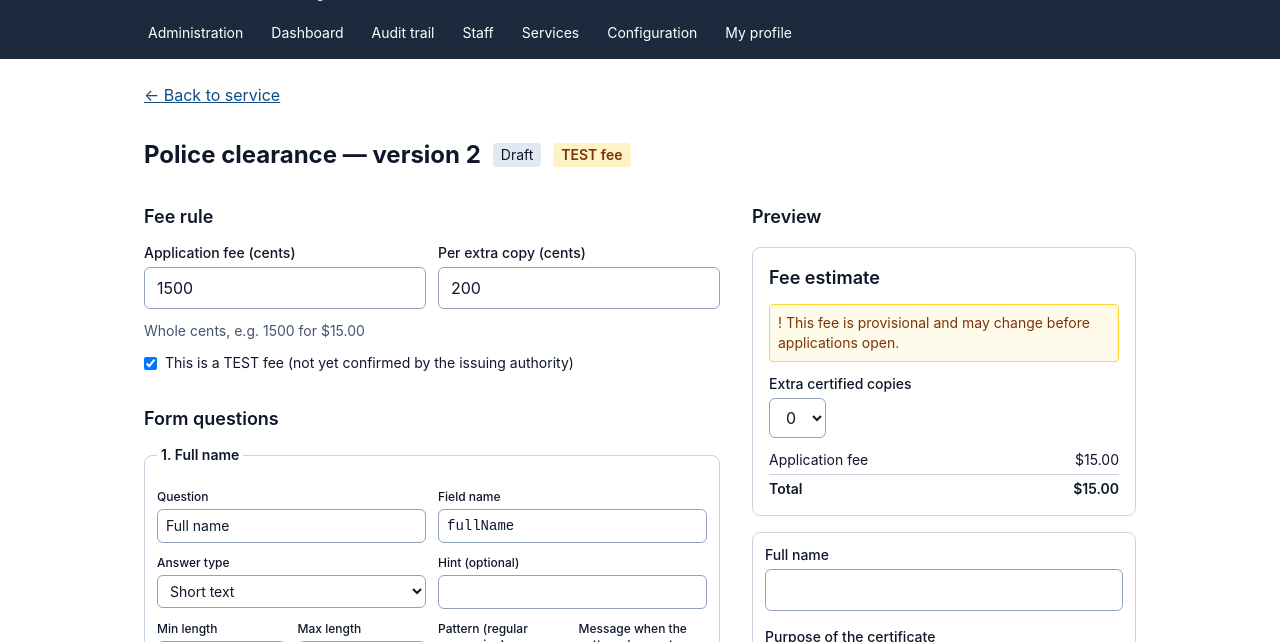
Test: version editor › should block publishing while the definition has problems
Replace the text in the field labelled "Field name" with "Bad Name" at (572,526), box 438,509 -> 707,543
(page scrolled)
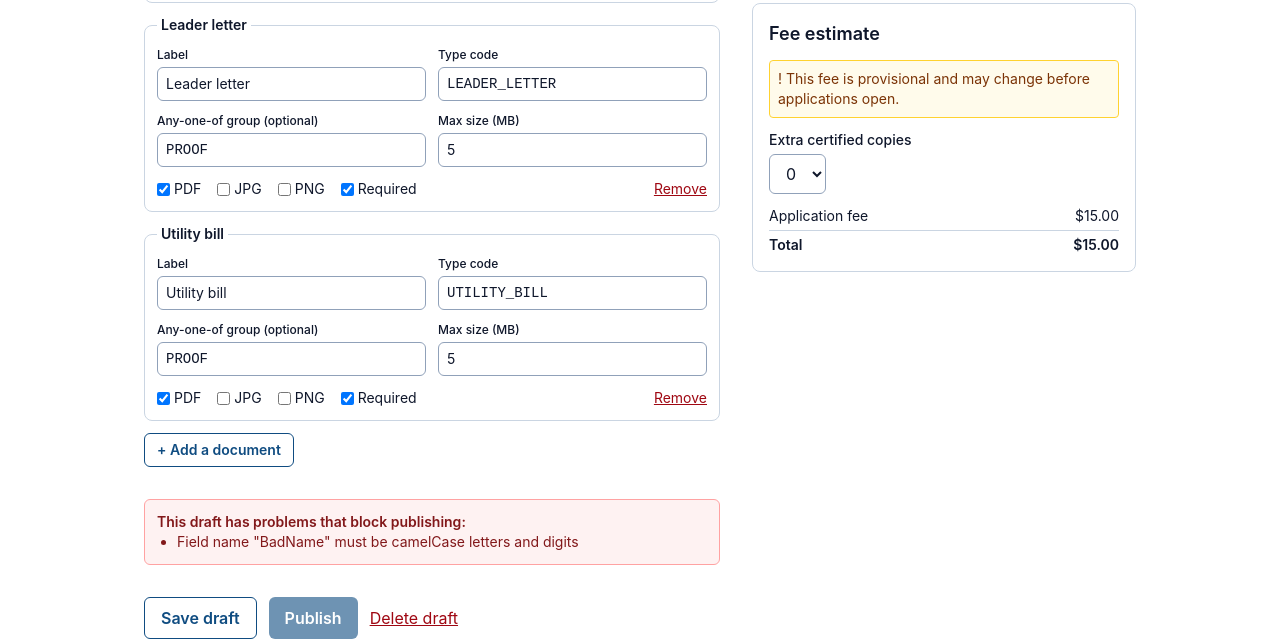
Now the button "Publish" is disabled, box 269,597 -> 358,639
Now the message shows "Field name \"BadName\" must be camelCase", box 177,533 -> 579,550
